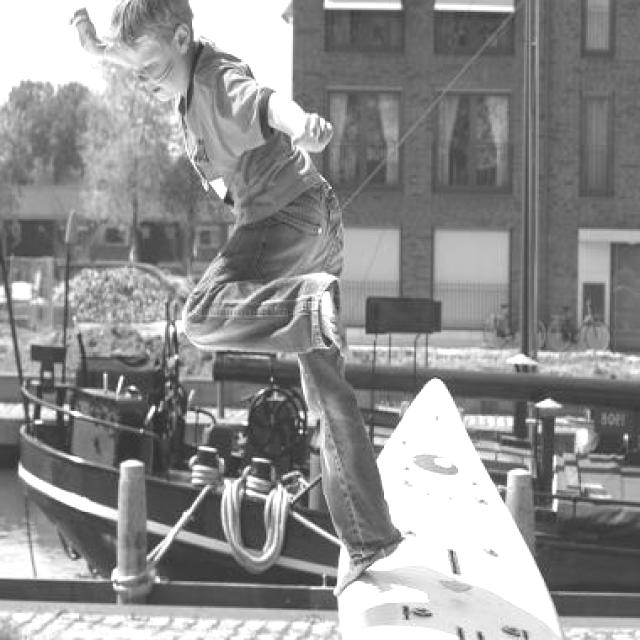ship: (17, 305, 640, 613)
